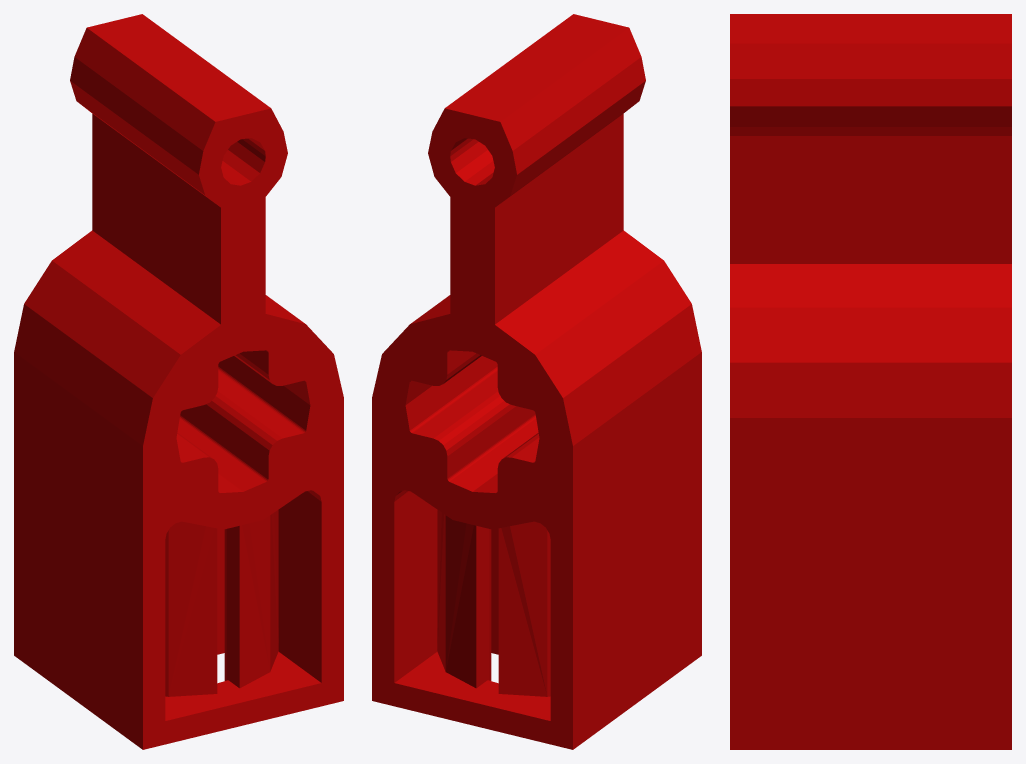
File: Red_4270473_AVV.fbx
3 views of the same model, side by side, from view 1: azimuth 30°, elevation 25°; view 2: azimuth 150°, elevation 25°; view 3: azimuth 270°, elevation 25° (orthographic). The views are drawn at different scales.
Parts seen in each view (by area): view 1: Red_4270473_AVV; view 2: Red_4270473_AVV; view 3: Red_4270473_AVV.
Boxes of the visible parts, box(x1,y1,x2,y2) form: Red_4270473_AVV: box(14, 14, 343, 749); Red_4270473_AVV: box(372, 14, 701, 749); Red_4270473_AVV: box(730, 14, 1011, 749).
Bounding box in the file's own units: 0.72 × 2.09 × 0.8.
